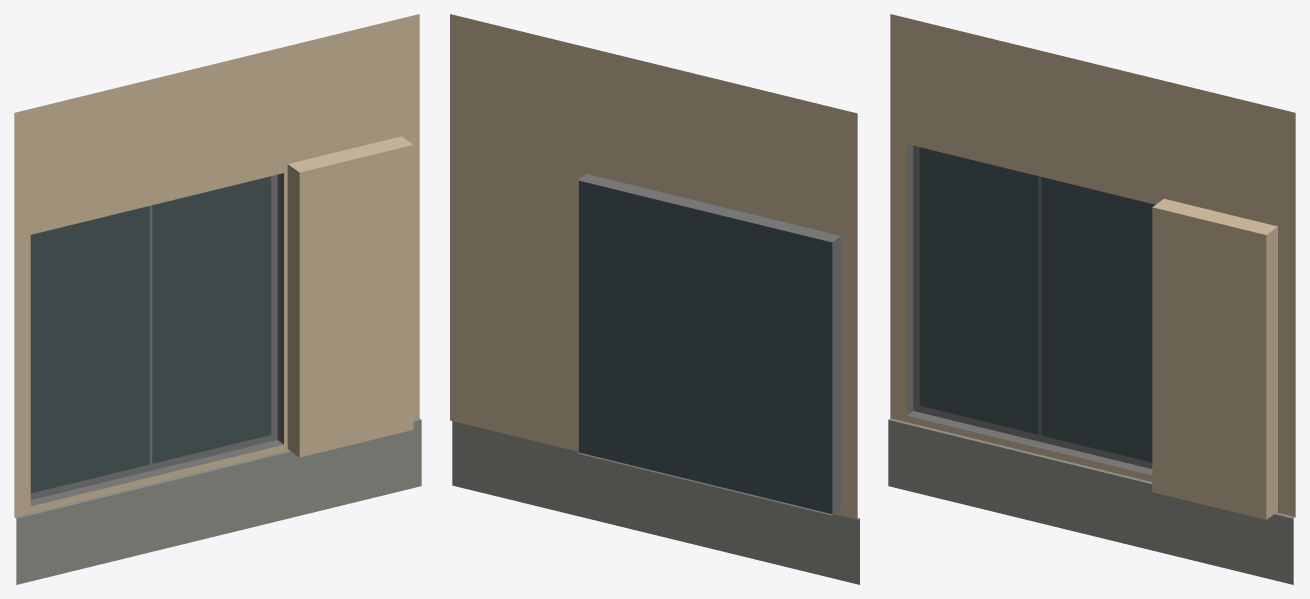
The picture shows the model from 3 angles, left to right: view 1: azimuth 30°, elevation 25°; view 2: azimuth 150°, elevation 25°; view 3: azimuth 330°, elevation 25°; orthographic projection.
Visible parts, largest first — view 1: a2000/400/base-w3; view 2: a2000/400/base-w3; view 3: a2000/400/base-w3.
Part boxes in pixels (x1,y1,x2,y2): a2000/400/base-w3: (14, 14, 421, 584); a2000/400/base-w3: (450, 14, 859, 584); a2000/400/base-w3: (888, 14, 1295, 584).
Bounding box in the file's own units: 3.2 × 3.55 × 0.28.
